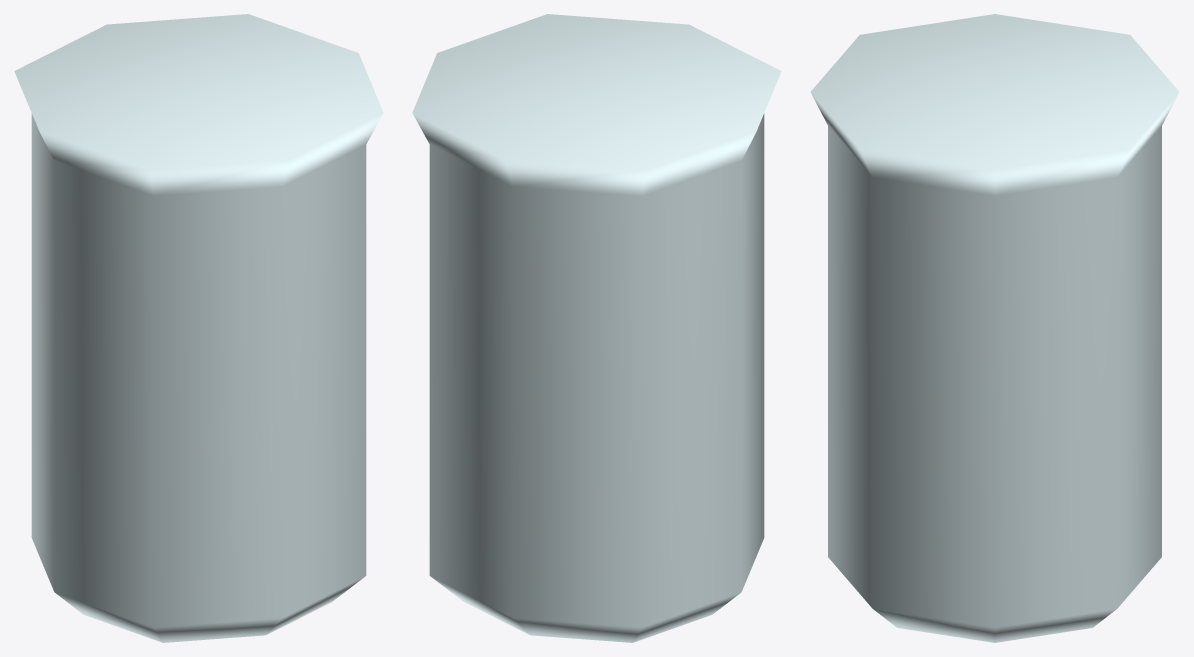
Rendered from Recipiente_1.obj.
3 views of the same model, side by side, from view 1: azimuth 30°, elevation 25°; view 2: azimuth 150°, elevation 25°; view 3: azimuth 270°, elevation 25° (orthographic).
Parts seen in each view (by area): view 1: pCube19; view 2: pCube19; view 3: pCube19.
Boxes of the visible parts, bbox=[...] form: pCube19: bbox=[14, 14, 383, 642]; pCube19: bbox=[412, 14, 781, 642]; pCube19: bbox=[810, 14, 1179, 642].
Bounding box in the file's own units: 24.36 × 36.02 × 24.36.
